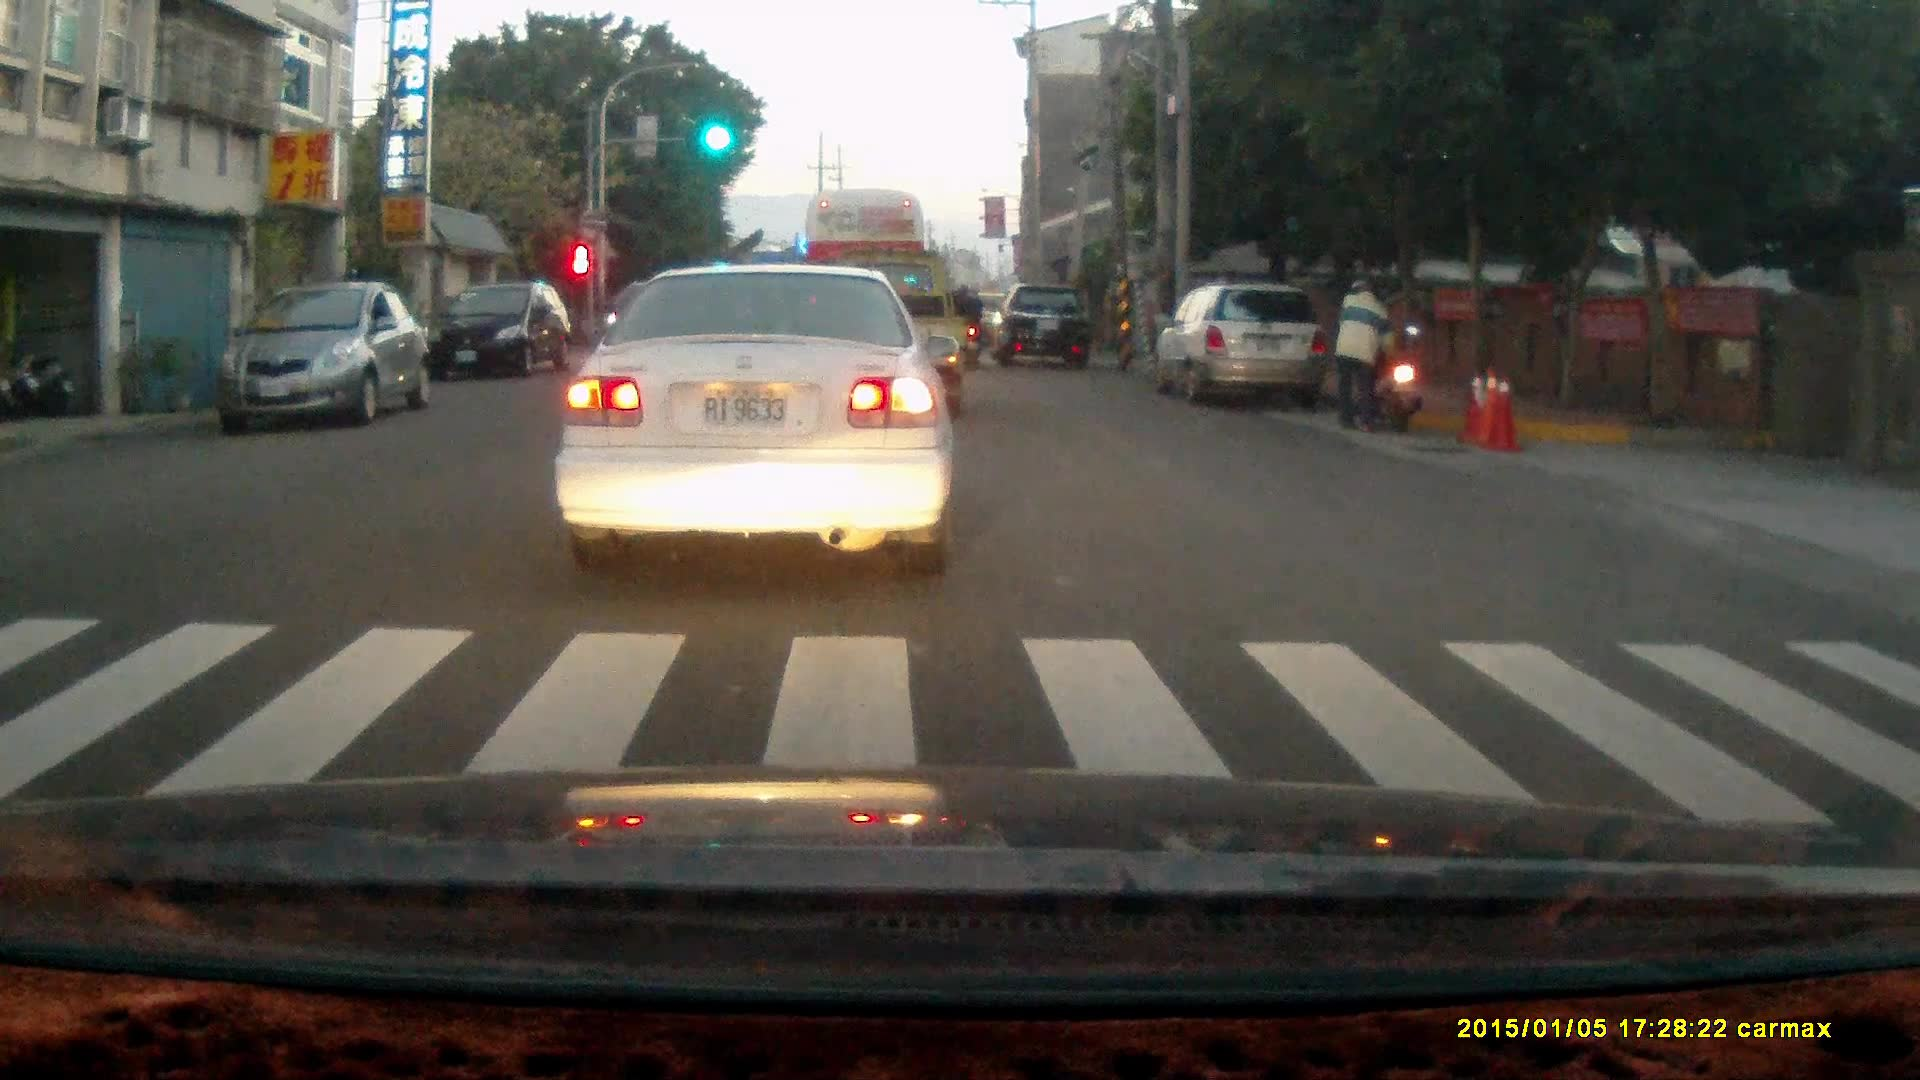pedestrian: (1334, 283, 1398, 438)
rider: (944, 281, 984, 367)
vehicle: (555, 264, 951, 578), (216, 281, 437, 432), (801, 187, 932, 391), (1160, 287, 1329, 405), (427, 280, 573, 388), (998, 289, 1097, 376)
